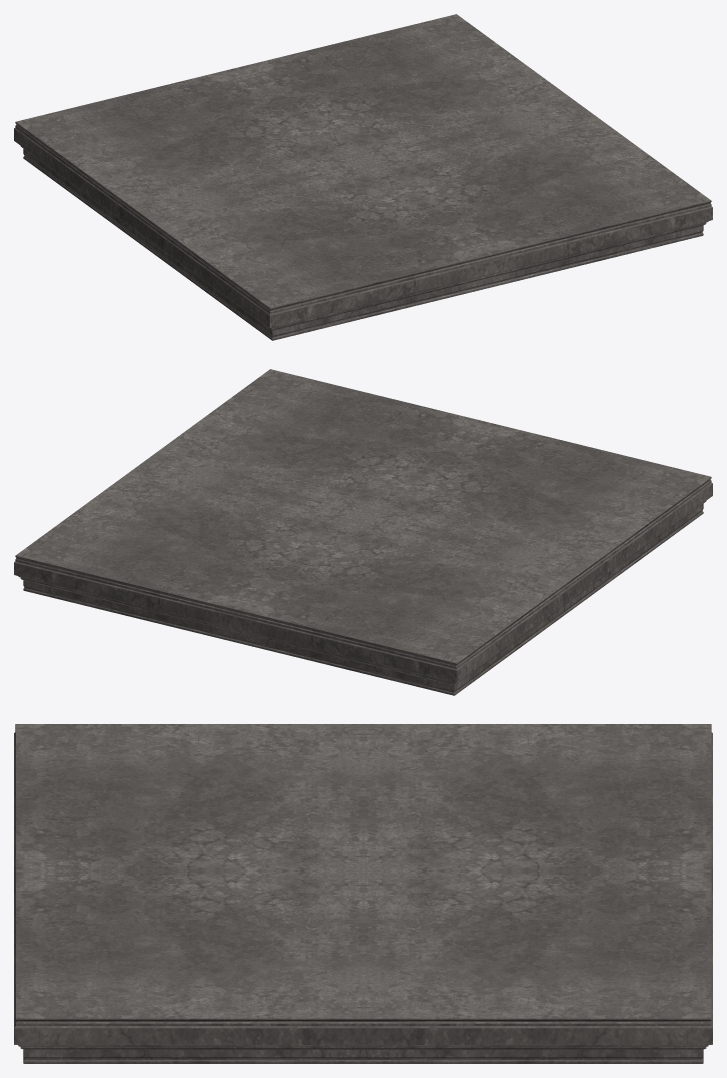
The model's file is SK6 ROOF.fbx.
3 renders of one model, top to bottom at view 1: azimuth 30°, elevation 25°; view 2: azimuth 150°, elevation 25°; view 3: azimuth 270°, elevation 25°, orthographic. The views are drawn at different scales.
Parts seen in each view (by area): view 1: SK6 ROOF; view 2: SK6 ROOF; view 3: SK6 ROOF.
Part boxes in pixels (x1,y1,x2,y2): SK6 ROOF: (14, 14, 712, 340); SK6 ROOF: (14, 369, 712, 695); SK6 ROOF: (14, 724, 712, 1063).
Bounding box in the file's own units: 1277 × 99.72 × 1277.
